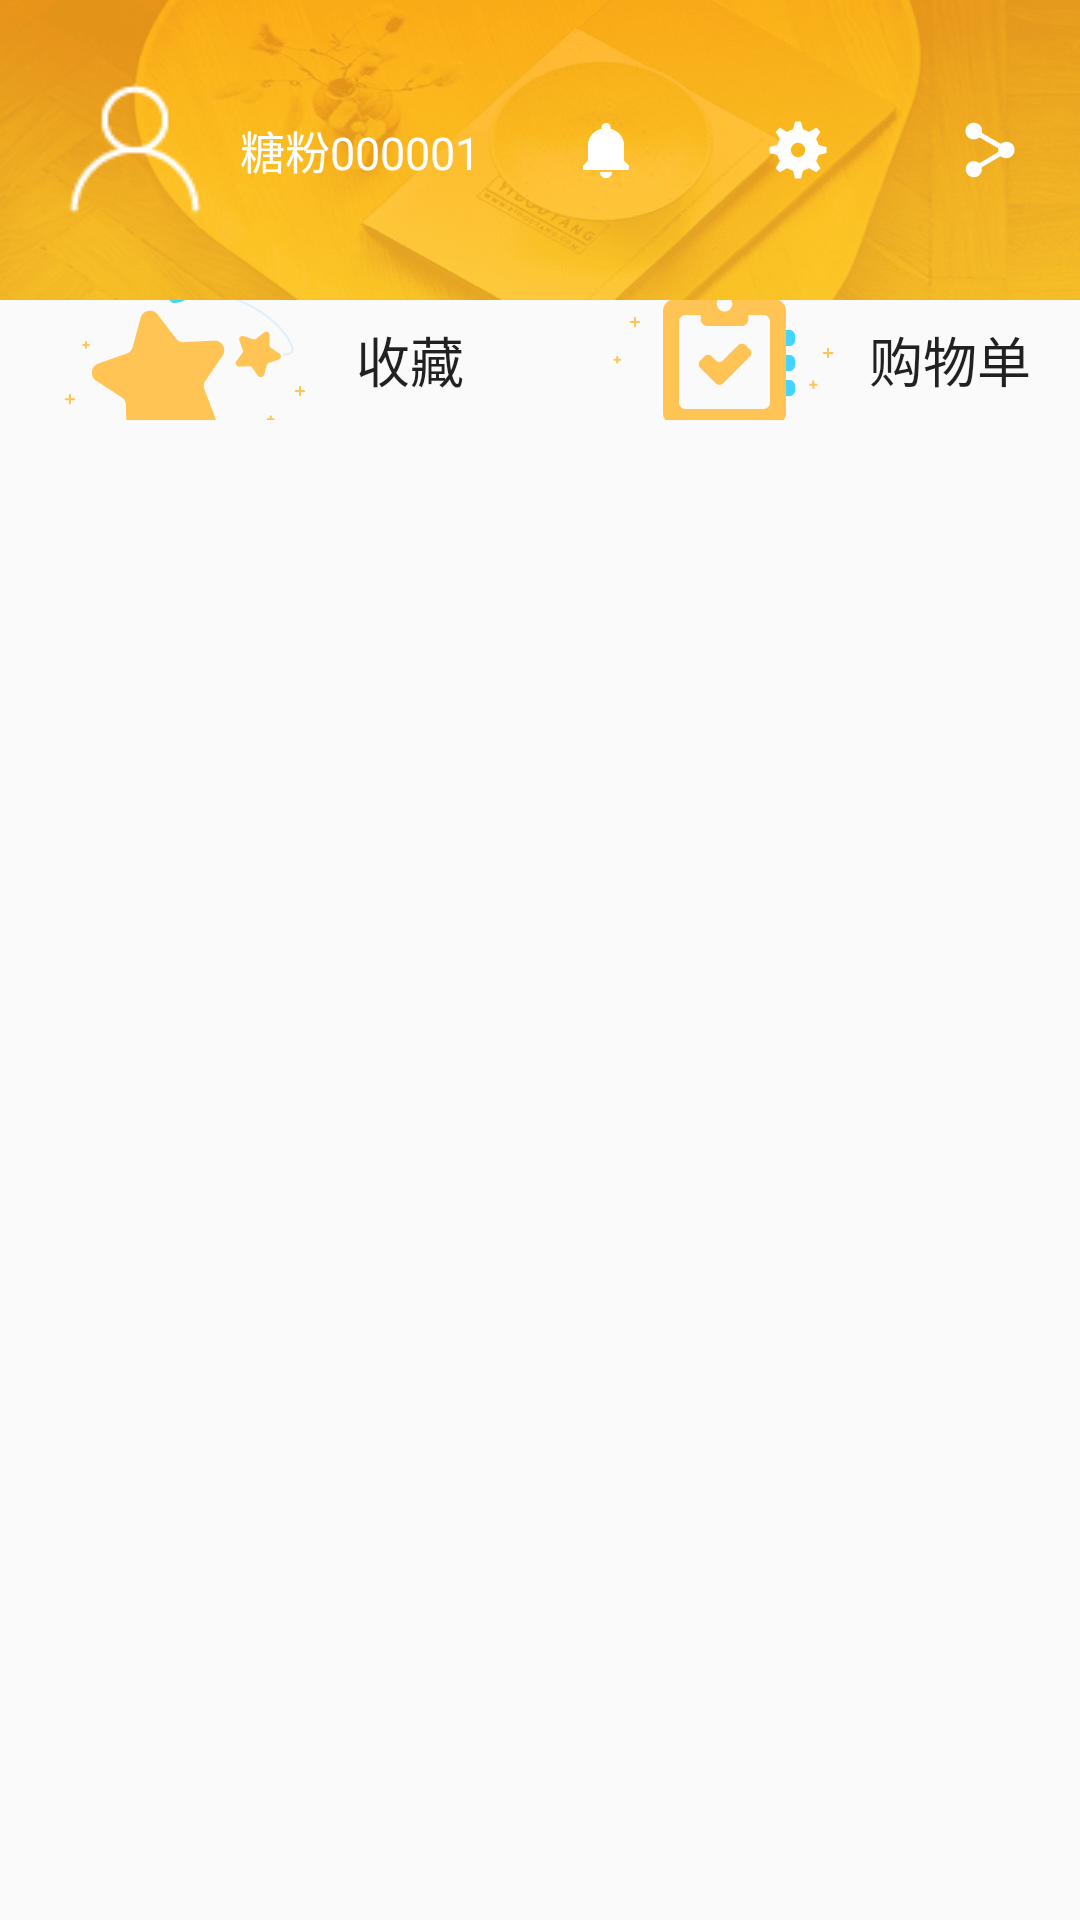

Icon click points for this 1080 x 1920 phone screenshot, format [x,y]:
setting: [794,150]
share: [990,150]
user: [135,150]
